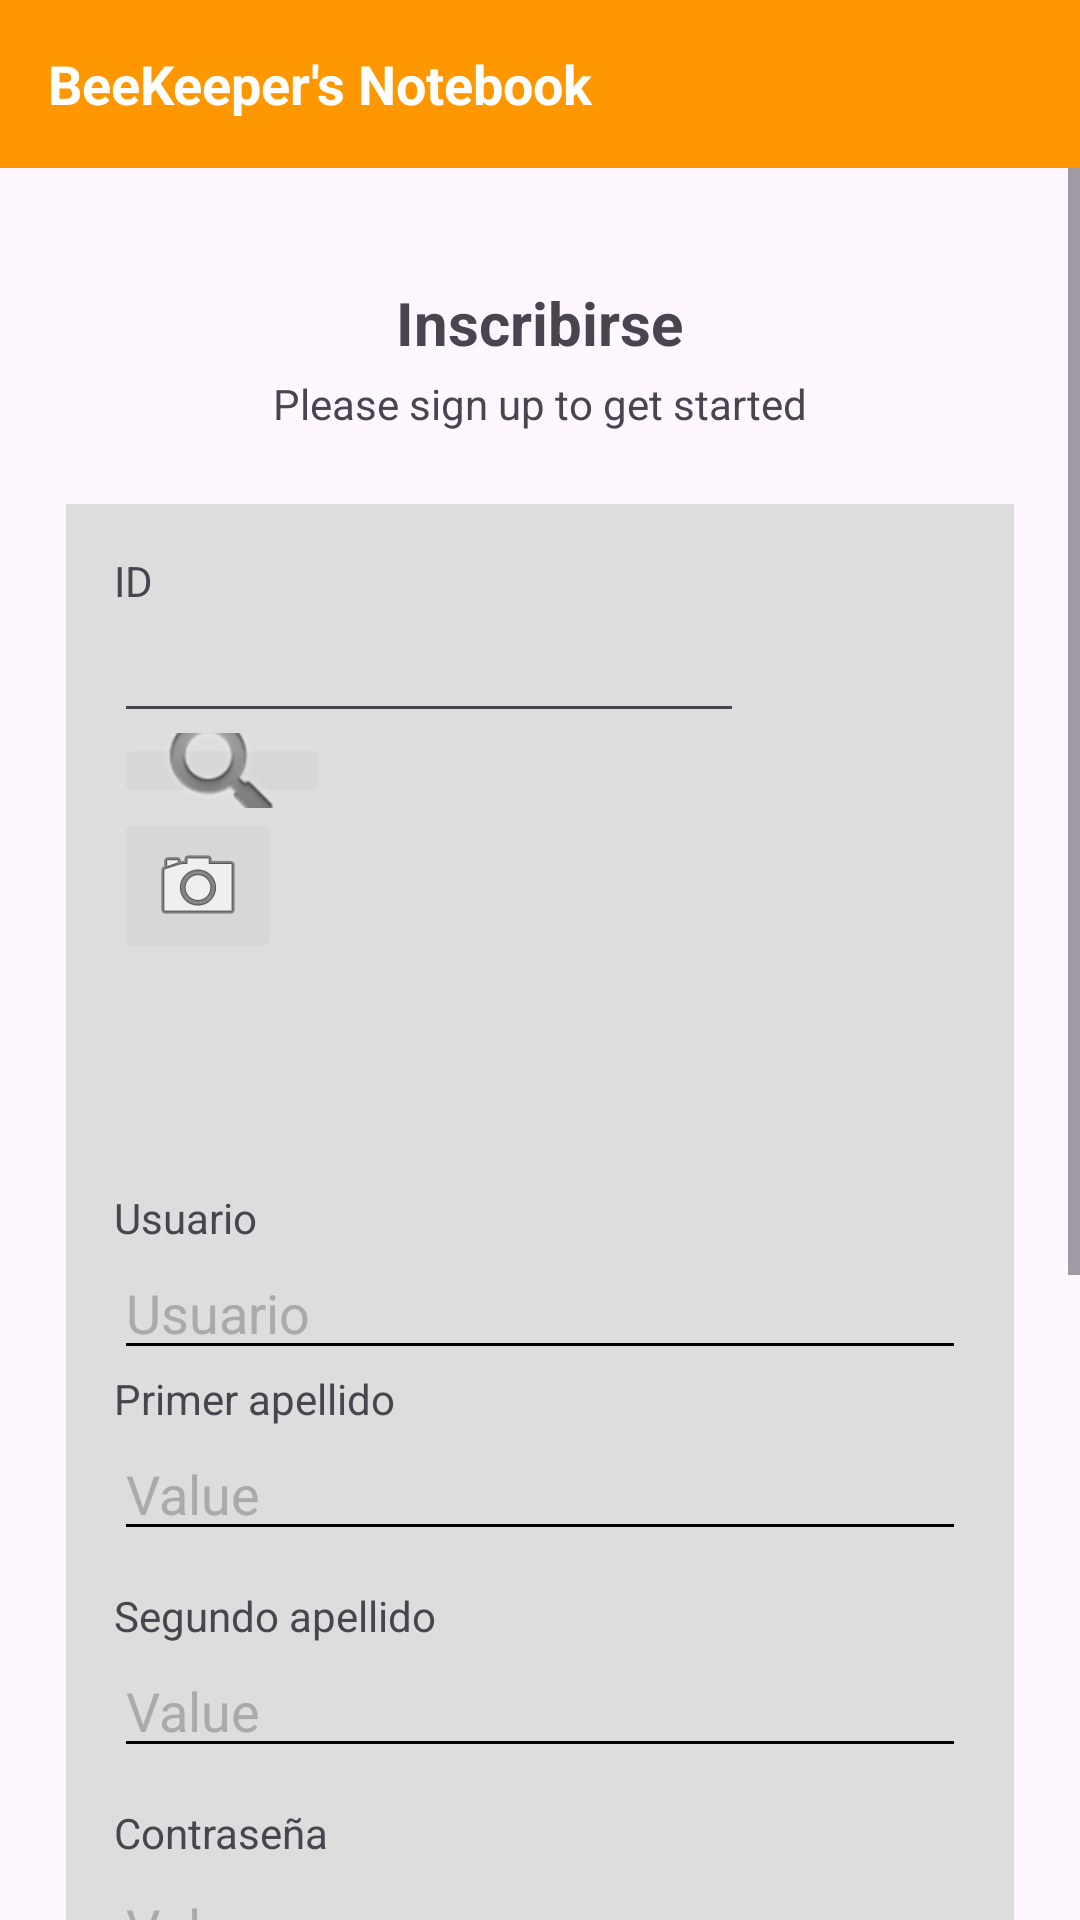

Locate icon controls on the screen. Image size 1080px x 1920px, boxes as BBox(x1, y1, x2, y2).
camera: BBox(161, 855, 235, 914)
search category: BBox(169, 733, 273, 808)
